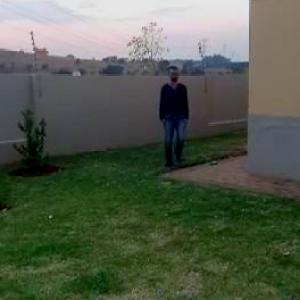follow: (155, 62, 192, 178)
